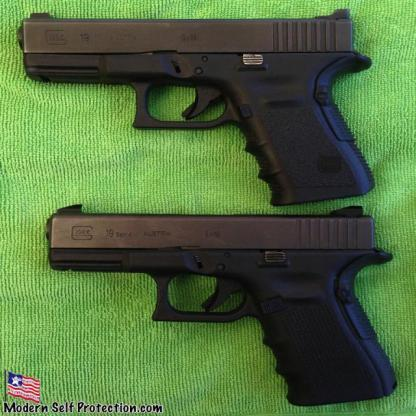weapon: (16, 8, 377, 208), (46, 204, 397, 406)
